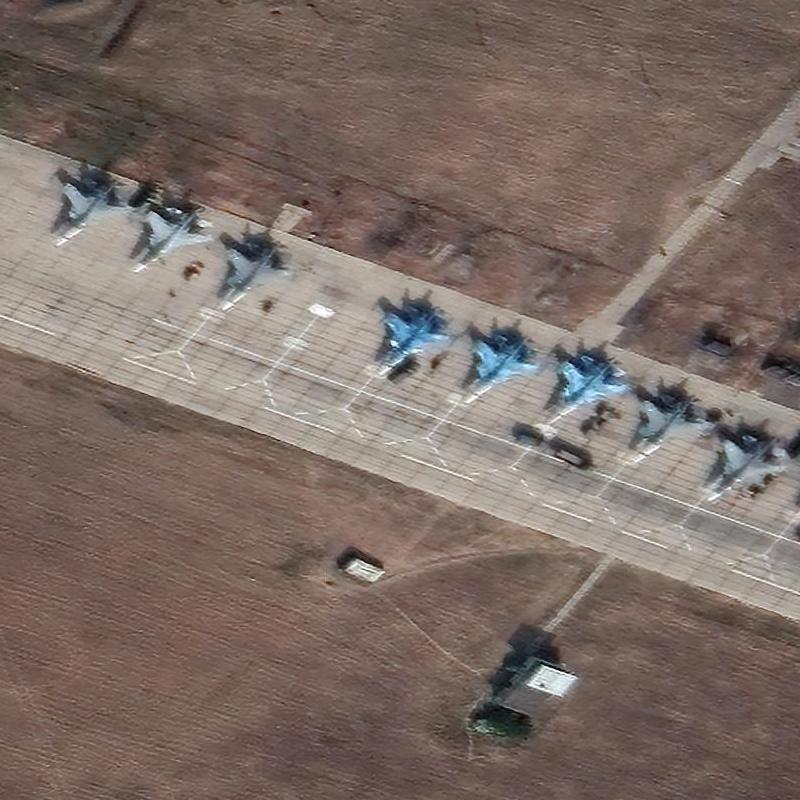A19: (543, 350, 630, 425), (628, 390, 714, 465), (374, 300, 455, 379), (460, 330, 544, 406), (704, 431, 791, 504), (51, 175, 131, 248), (218, 239, 292, 313), (130, 208, 212, 274)
